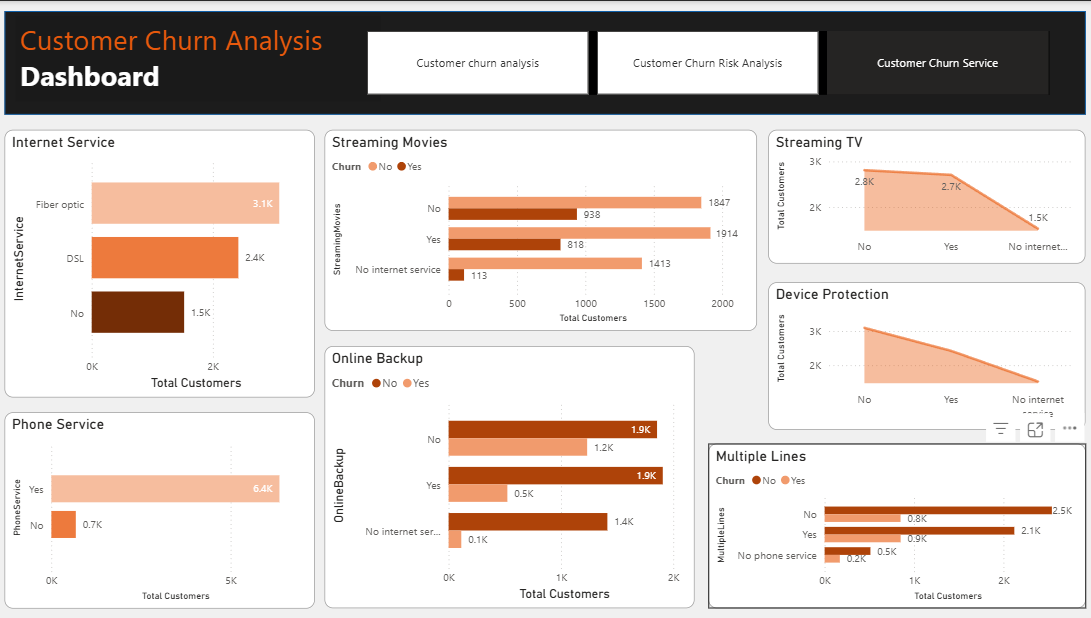

This screenshot's page, from the dashboard's own definition file:
{"tool":"powerbi","page":{"name":"Customer Churn Service","canvas":[1280,720],"ordinal":2},"visuals":[{"type":"clusteredBarChart","title":"Internet Service","fields":{"Category":["customers_cleaned_final.InternetService"],"Y":["customers_cleaned_final.Total Customers"]},"box":[8.7,150,361.2,311.7],"z":0},{"type":"shape","box":[8.7,11.7,1259.9,120.9],"z":1000},{"type":"textbox","box":[21.8,17.5,425.3,99],"z":2000},{"type":"pageNavigator","box":[431.1,35,795.3,74.3],"z":2001},{"type":"clusteredBarChart","title":"Phone Service","fields":{"Category":["customers_cleaned_final.PhoneService"],"Y":["customers_cleaned_final.Total Customers"]},"box":[8.7,479.2,361.2,228.7],"z":2002},{"type":"clusteredBarChart","title":"Streaming Movies","fields":{"Category":["customers_cleaned_final.StreamingMovies"],"Y":["customers_cleaned_final.Total Customers"],"Series":["customers_cleaned_final.Churn"]},"box":[381.6,150,504,234.5],"z":2003},{"type":"clusteredBarChart","title":"Online Backup","fields":{"Category":["customers_cleaned_final.OnlineBackup"],"Y":["customers_cleaned_final.Total Customers"],"Series":["customers_cleaned_final.Churn"]},"box":[381.6,402,431.1,305.9],"z":2004},{"type":"areaChart","title":"Streaming TV","fields":{"Category":["customers_cleaned_final.StreamingTV"],"Y":["customers_cleaned_final.Total Customers"]},"box":[898.7,150,370,155.8],"z":2005},{"type":"areaChart","title":"Device Protection","fields":{"Category":["customers_cleaned_final.DeviceProtection"],"Y":["customers_cleaned_final.Total Customers"]},"box":[898.7,327.7,370,171.9],"z":2006},{"type":"clusteredBarChart","title":"Multiple Lines","fields":{"Category":["customers_cleaned_final.MultipleLines"],"Y":["customers_cleaned_final.Total Customers"],"Series":["customers_cleaned_final.Churn"]},"box":[828.8,515.6,439.9,192.3],"z":2007}]}

Visuals, with their boxes in screenshot pixels (x1, y1, x2, y2), scaled from the page's 1280x720 canvas onto the 1091x618 screenshot:
"Internet Service" clusteredBarChart: pyautogui.locateOnScreen(7, 129, 315, 396)
shape: pyautogui.locateOnScreen(7, 10, 1081, 114)
textbox: pyautogui.locateOnScreen(19, 15, 381, 100)
pageNavigator: pyautogui.locateOnScreen(367, 30, 1045, 94)
"Phone Service" clusteredBarChart: pyautogui.locateOnScreen(7, 411, 315, 608)
"Streaming Movies" clusteredBarChart: pyautogui.locateOnScreen(325, 129, 755, 330)
"Online Backup" clusteredBarChart: pyautogui.locateOnScreen(325, 345, 693, 608)
"Streaming TV" areaChart: pyautogui.locateOnScreen(766, 129, 1081, 262)
"Device Protection" areaChart: pyautogui.locateOnScreen(766, 281, 1081, 429)
"Multiple Lines" clusteredBarChart: pyautogui.locateOnScreen(706, 443, 1081, 608)
